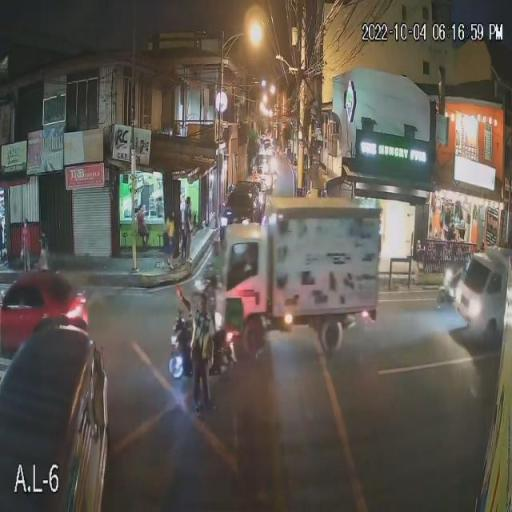motorcycle: (168, 317, 236, 379)
